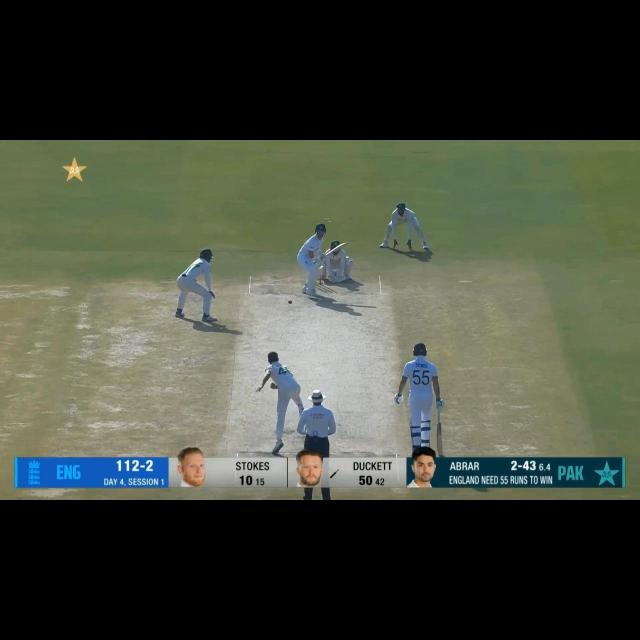bat: (322, 240, 350, 257), (435, 423, 445, 457)
toe: (437, 447, 445, 455), (343, 241, 349, 246)
